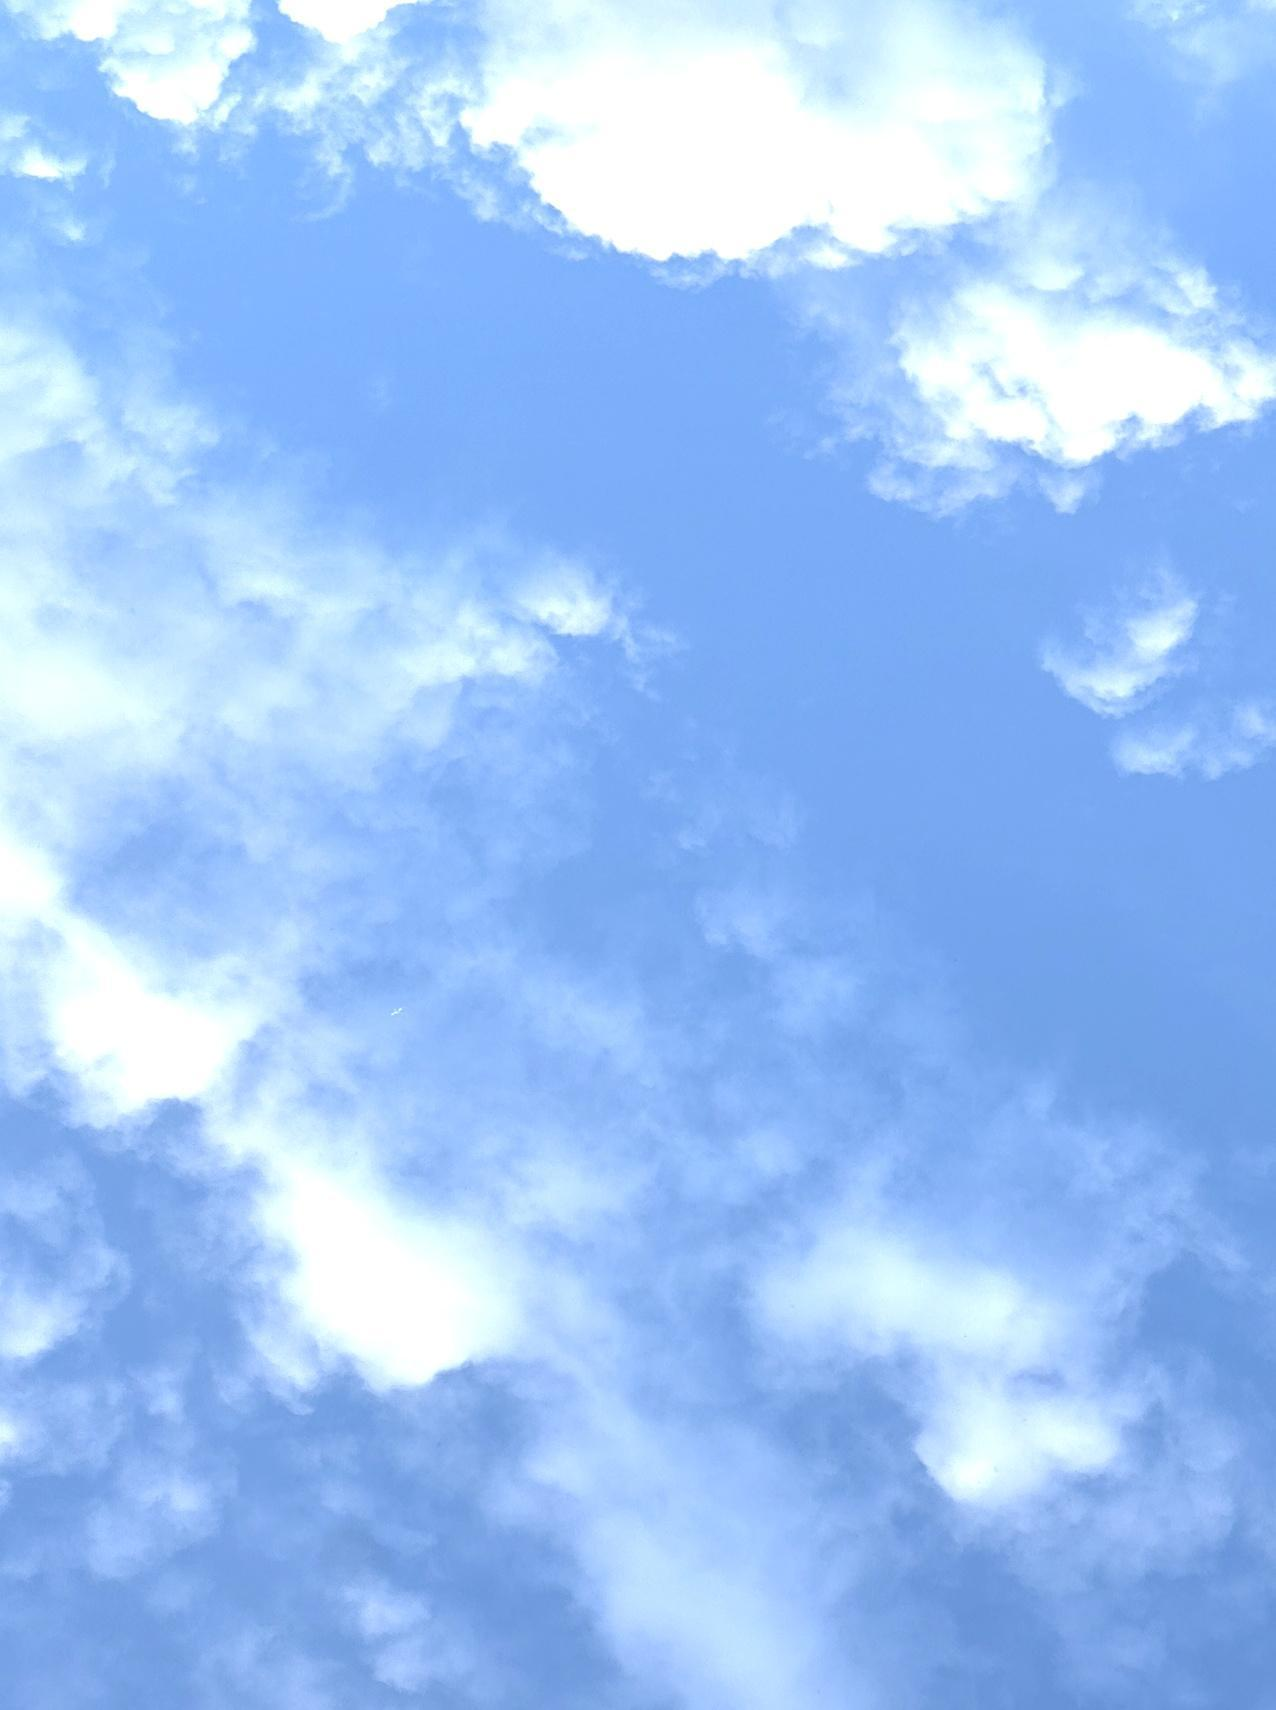Plane: (379, 989, 417, 1037)
